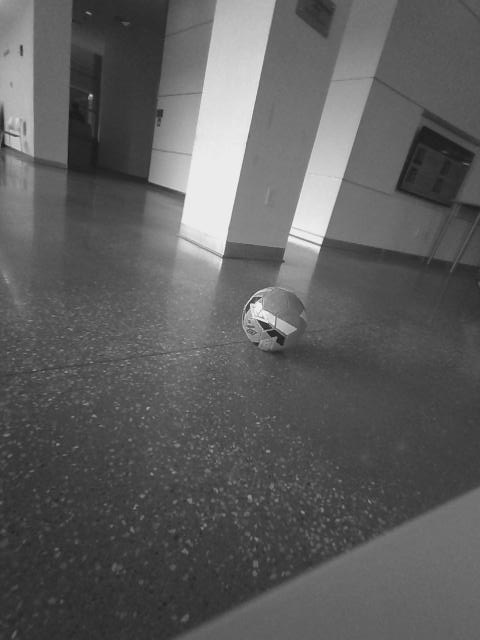ball: (240, 284, 312, 356)
